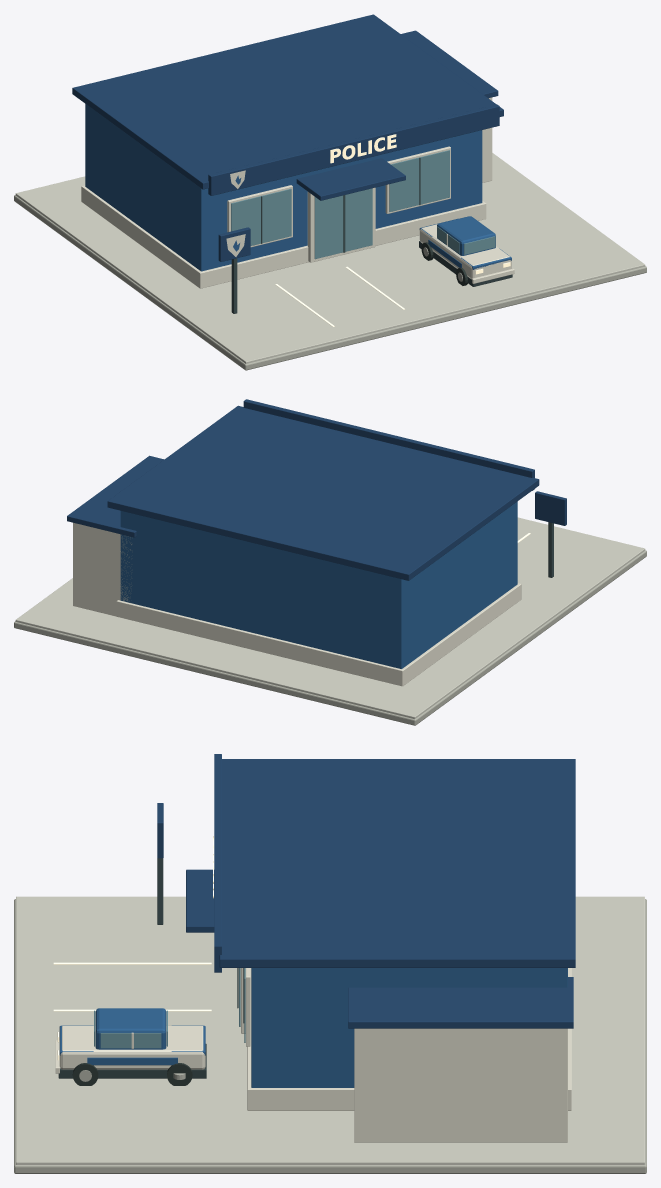
Rendered from small-police-station.glb.
3 renders of one model, top to bottom at view 1: azimuth 30°, elevation 25°; view 2: azimuth 150°, elevation 25°; view 3: azimuth 270°, elevation 25°, orthographic. The views are drawn at different scales.
Parts seen in each view (by area): view 1: Paving, OverhangingRoof, NeighbourhoodPost, PoliceNameBand, WhiteBase, Lot, EntryGlass, WindowGlass.001, BlueCanopy, WindowGlass, PatrolBody, SideRoof (+7 smaller); view 2: OverhangingRoof, NeighbourhoodPost, Paving, WhiteBase, Lot, SideServiceWing, PoliceNameBand, SideRoof, PoliceSign; view 3: Paving, OverhangingRoof, SideServiceWing, NeighbourhoodPost, SideRoof, Lot, PatrolBody, WhiteBase, Cabin, BlueCanopy, PoliceNameBand, PatrolChassis (+2 smaller).
Boxes of the visible parts, <box> form: Paving: <box>15,153,645,363</box>; OverhangingRoof: <box>72,14,503,189</box>; NeighbourhoodPost: <box>85,104,482,271</box>; PoliceNameBand: <box>208,104,499,195</box>; WhiteBase: <box>81,185,486,288</box>; Lot: <box>14,195,646,370</box>; EntryGlass: <box>314,188,372,259</box>; WindowGlass.001: <box>389,150,449,211</box>; BlueCanopy: <box>296,158,405,200</box>; WindowGlass: <box>231,188,291,245</box>; PatrolBody: <box>419,224,511,279</box>; SideRoof: <box>401,30,498,98</box>; OverhangingRoof: <box>107,405,539,580</box>; NeighbourhoodPost: <box>120,501,517,668</box>; Paving: <box>15,517,645,719</box>; WhiteBase: <box>116,583,521,686</box>; Lot: <box>14,550,646,725</box>; SideServiceWing: <box>73,522,131,616</box>; PoliceNameBand: <box>243,399,534,490</box>; SideRoof: <box>67,455,164,537</box>; PoliceSign: <box>535,491,566,525</box>; Paving: <box>16,896,644,1164</box>; OverhangingRoof: <box>219,759,575,967</box>; SideServiceWing: <box>354,1028,567,1142</box>; NeighbourhoodPost: <box>251,968,567,1087</box>; SideRoof: <box>348,977,573,1028</box>; Lot: <box>14,899,646,1173</box>; PatrolBody: <box>59,1025,205,1069</box>; WhiteBase: <box>247,968,571,1110</box>; Cabin: <box>95,1008,166,1049</box>; BlueCanopy: <box>186,869,214,932</box>; PoliceNameBand: <box>214,754,221,972</box>; PatrolChassis: <box>58,1044,206,1078</box>.
Bounding box in the file's own units: 16 × 4.99 × 16.
